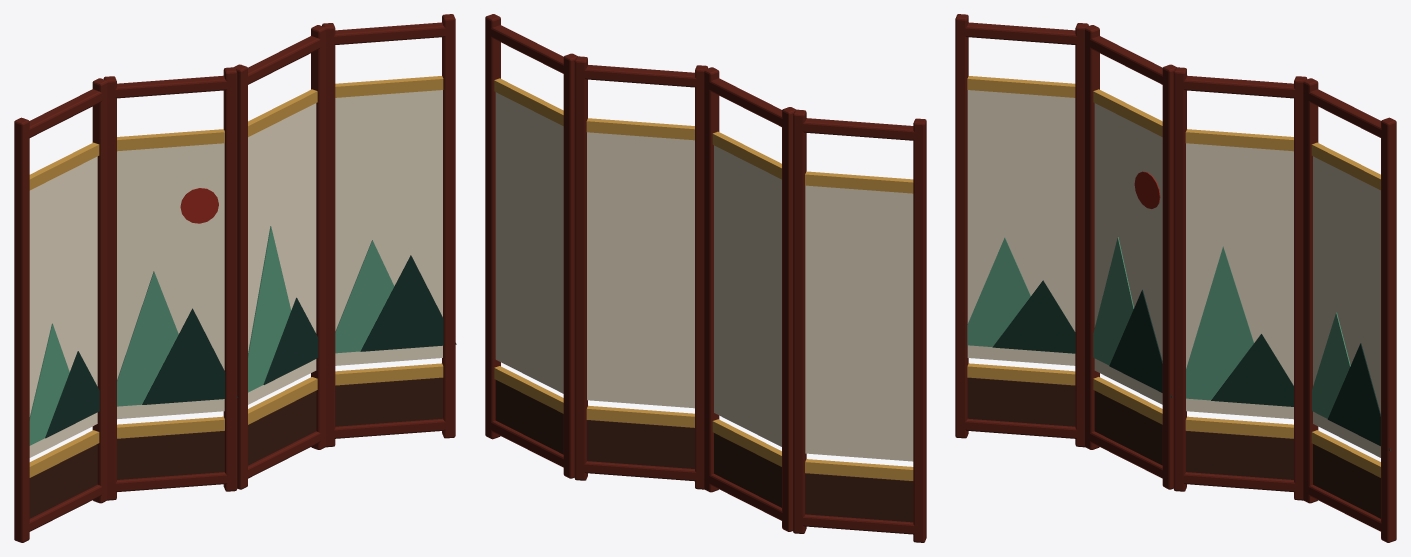
Rendered from screen.glb.
3 views of the same model, side by side, from view 1: azimuth 30°, elevation 25°; view 2: azimuth 150°, elevation 25°; view 3: azimuth 330°, elevation 25° (orthographic).
Parts seen in each view (by area): view 1: screen; view 2: screen; view 3: screen.
Part boxes in pixels (box(x1,y1,x2,y2)): screen: box(14, 14, 456, 542); screen: box(485, 14, 926, 542); screen: box(955, 14, 1396, 542).
Size of the model in its own units: 2.08 by 1.9 by 0.2301.
